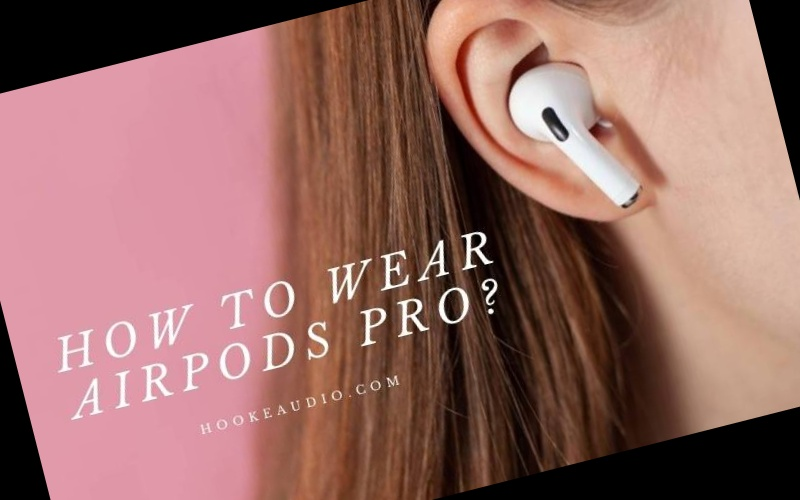earphone: (410, 0, 676, 258)
